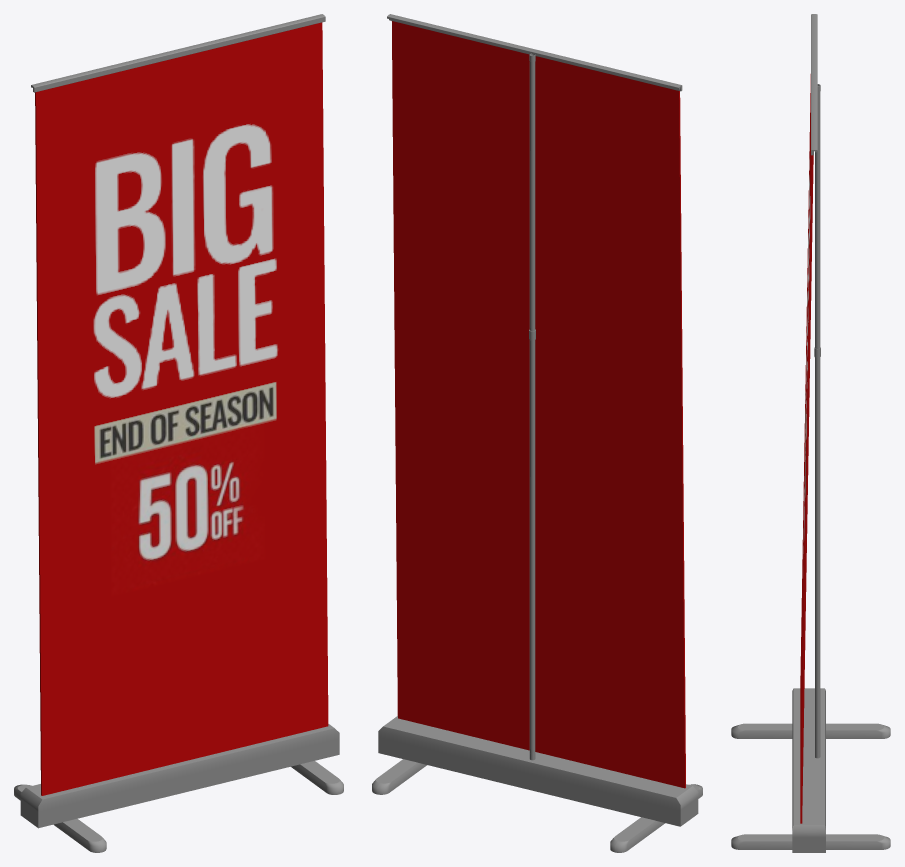
The model's file is Rollups.fbx.
3 renders of one model, left to right at view 1: azimuth 30°, elevation 25°; view 2: azimuth 150°, elevation 25°; view 3: azimuth 270°, elevation 25°, orthographic. The views are drawn at different scales.
Visible parts, largest first — view 1: Rollups; view 2: Rollups; view 3: Rollups.
Part boxes in pixels (bbox=[...]): Rollups: bbox=[14, 14, 343, 852]; Rollups: bbox=[372, 14, 702, 852]; Rollups: bbox=[731, 14, 890, 852].
Size of the model in its own units: 75.69 by 178 by 36.17.
Materials: 2 (1 with a texture image).
